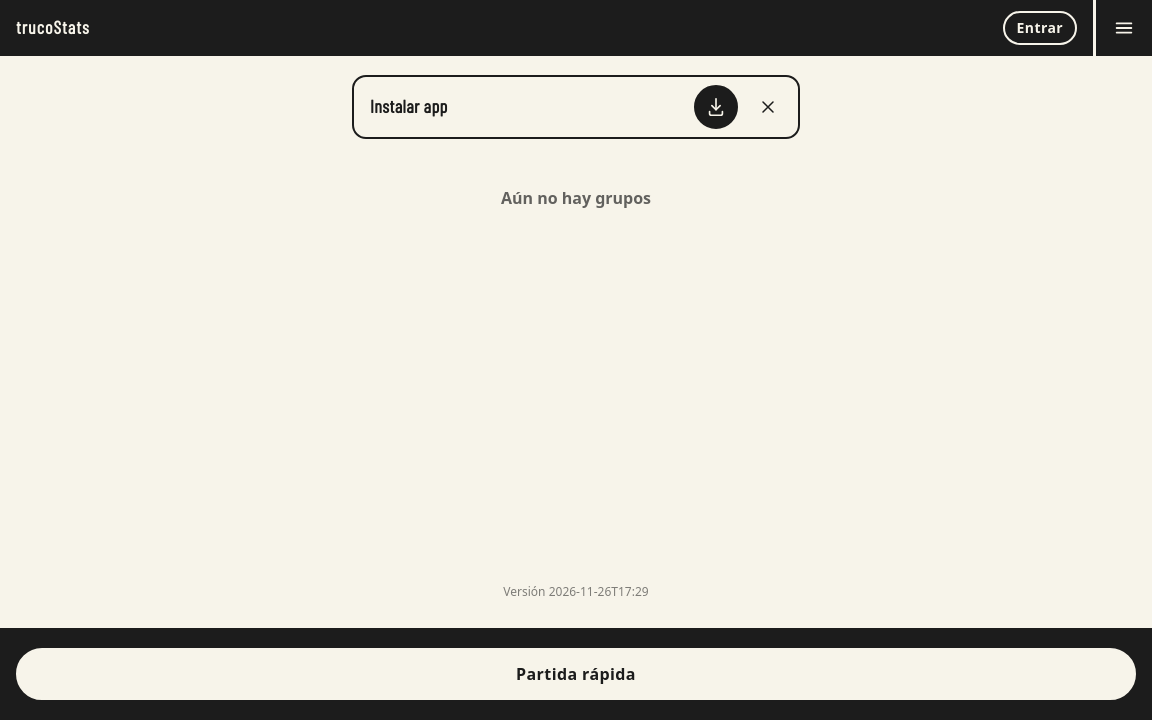
Test case: menú de la pantalla principal (cuenta) › una cuenta invitada abre su perfil desde la primera línea del menú, sin "Ver perfil" aparte
Click the button named "Menú" at (1124, 28), box left=1096, top=0, right=1151, bottom=56
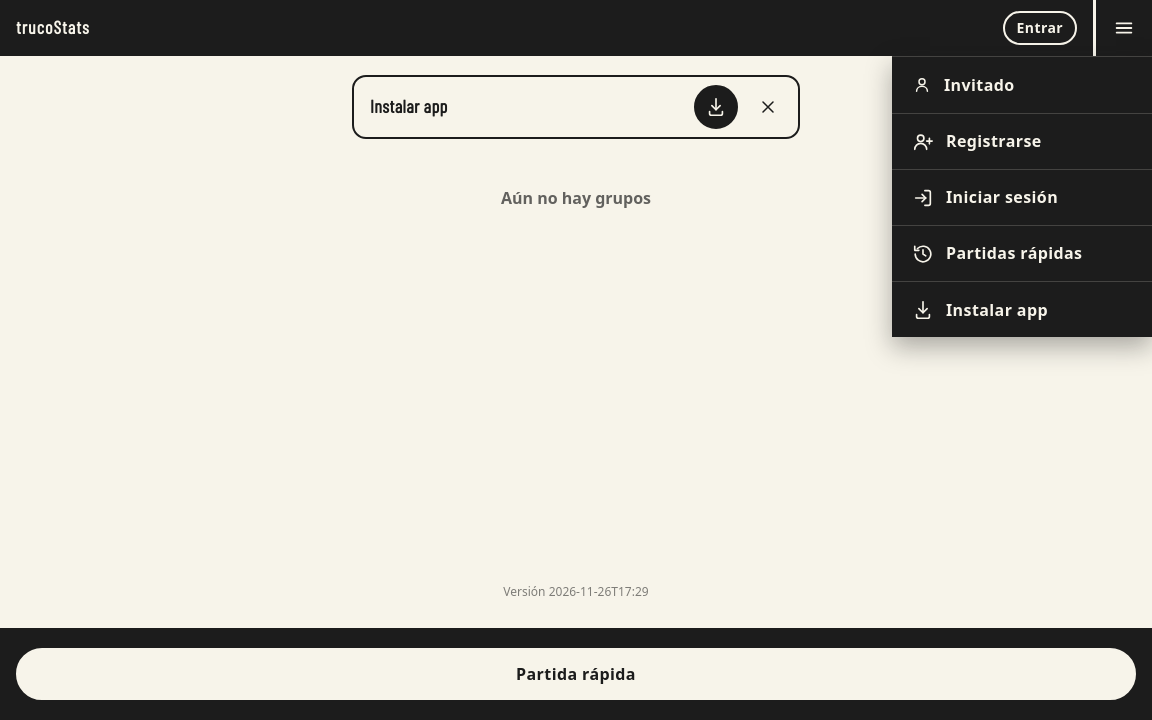
expect the link "Registrarse" is shown: met, box left=892, top=113, right=1151, bottom=169
